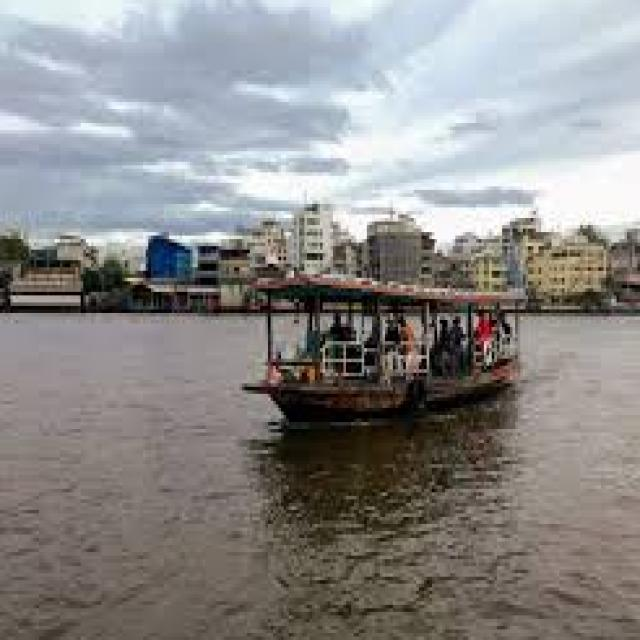houseboat: (228, 284, 527, 416)
